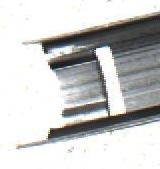press: (16, 20, 147, 149)
